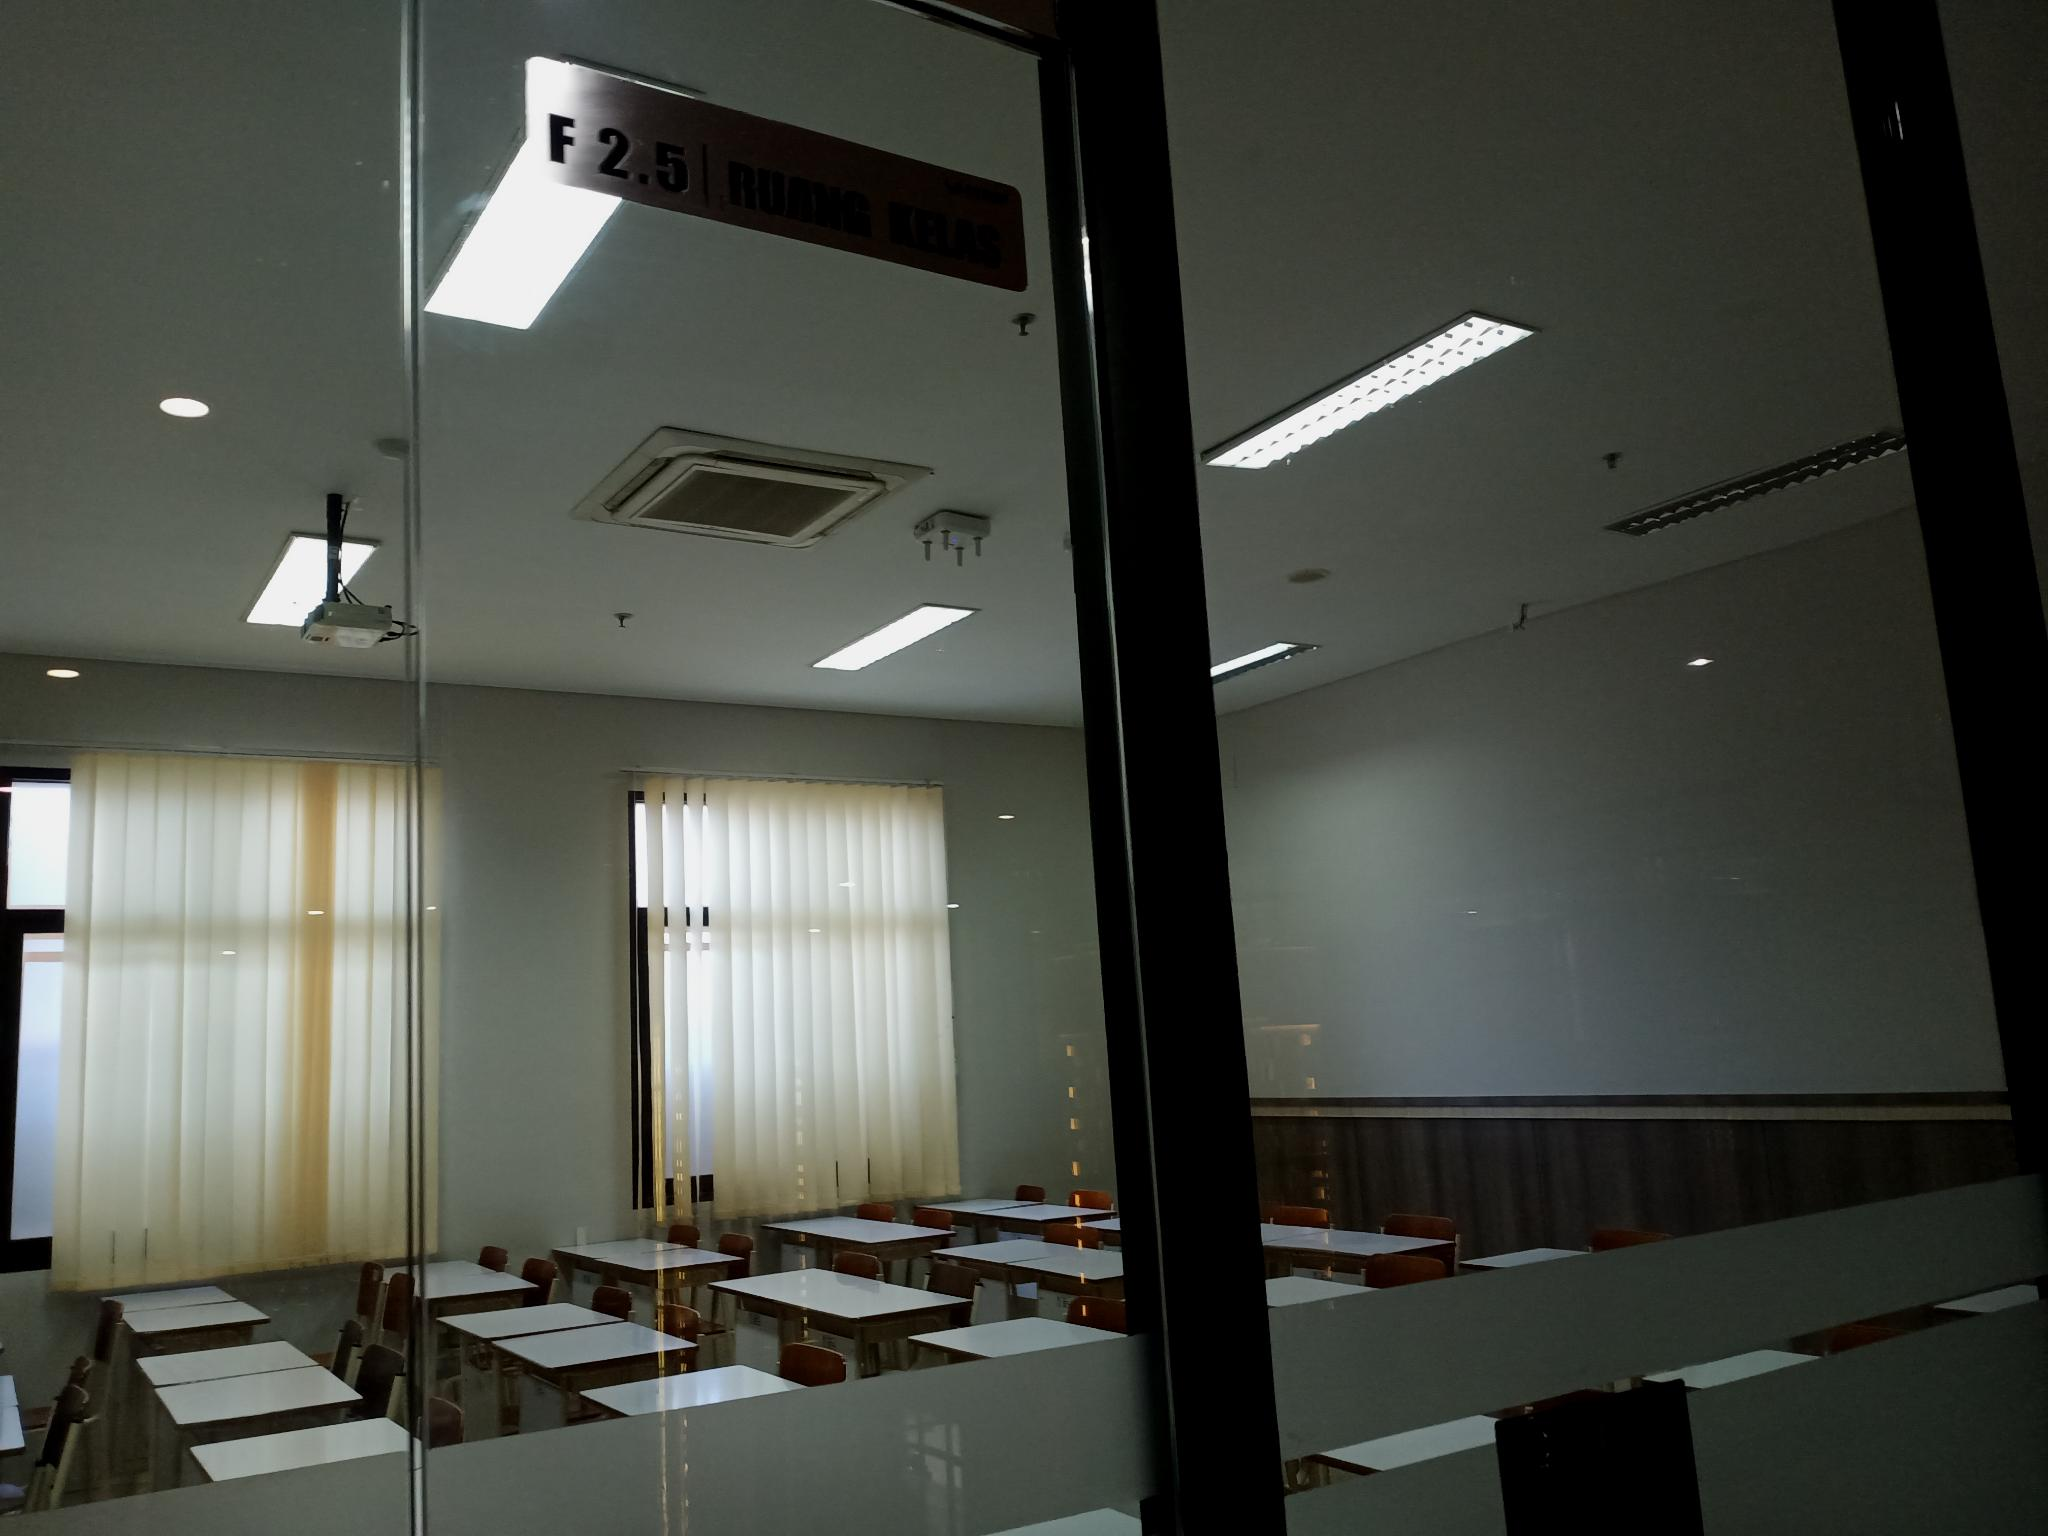plate: (522, 52, 1026, 298)
